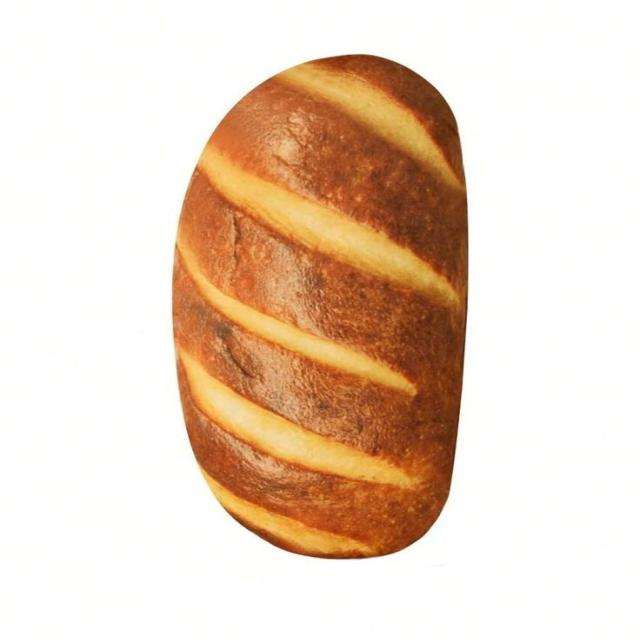bread: (174, 55, 466, 557)
